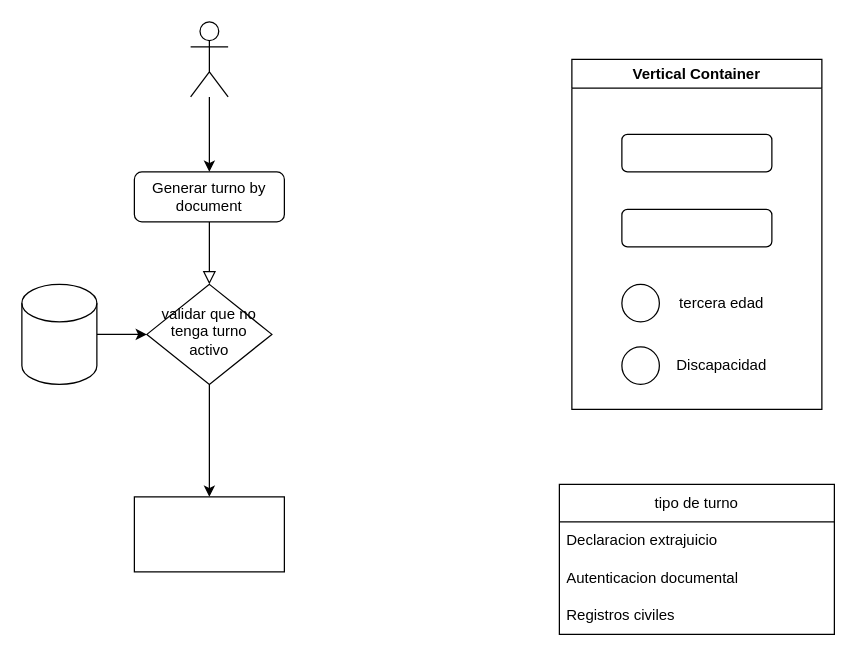
This 856x656 diagram has some shape labels left out. The centre of each missing label's shape, as x and y in pixels:
"Actor" goes at (x=208, y=59).
"crear turno y guardarlo estado true" goes at (x=208, y=534).
